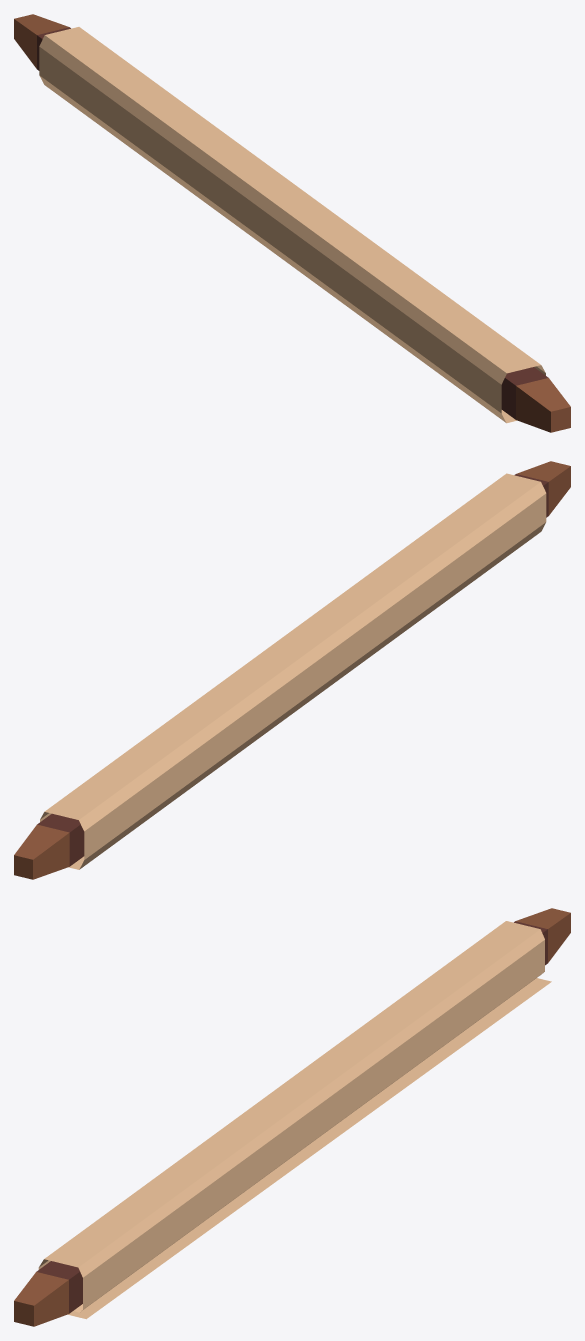
The model's file is scroll_handle_square.fbx.
3 views of the same model, one above another, from view 1: azimuth 30°, elevation 25°; view 2: azimuth 150°, elevation 25°; view 3: azimuth 330°, elevation 25° (orthographic).
Parts seen in each view (by area): view 1: Cube; view 2: Cube; view 3: Cube.
Boxes of the visible parts, x1=… form: Cube: x1=14, y1=14, x2=570, y2=432; Cube: x1=14, y1=461, x2=570, y2=879; Cube: x1=14, y1=908, x2=570, y2=1326.
Size of the model in its own units: 9.67 by 8.98 by 176.
